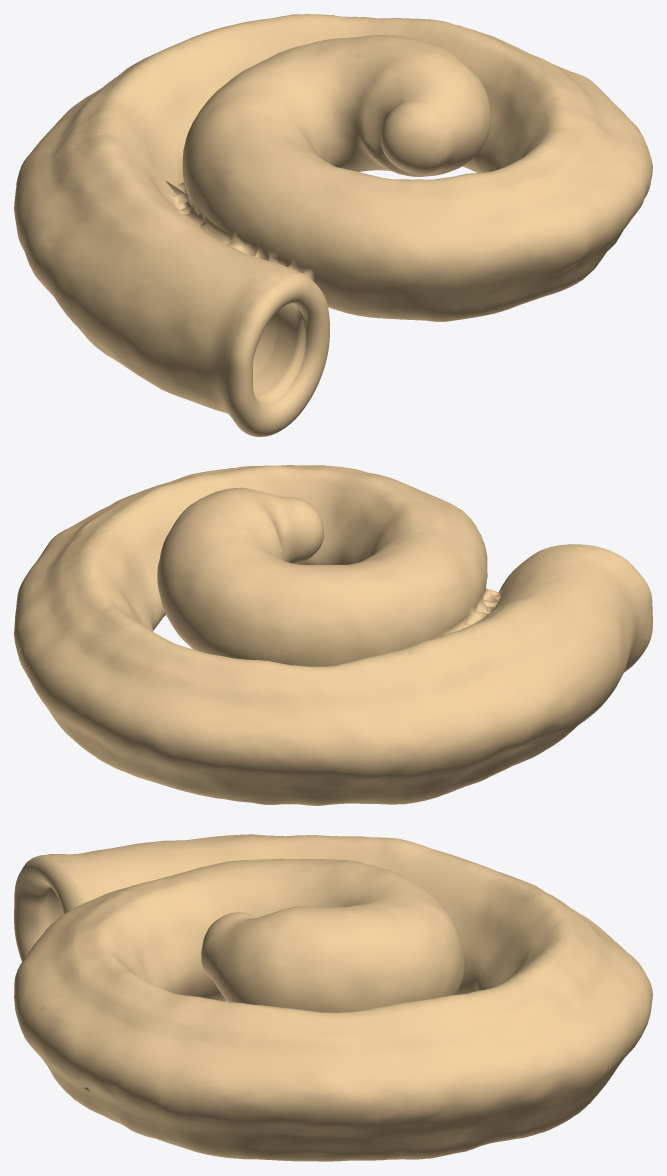
File: bottlenose_dolphin_cochlea.glb
The picture shows the model from 3 angles, top to bottom: view 1: azimuth 30°, elevation 25°; view 2: azimuth 150°, elevation 25°; view 3: azimuth 270°, elevation 25°; orthographic projection. The views are drawn at different scales.
Visible parts, largest first — view 1: Tursiops_truncatus_Cochlea_Hollow; view 2: Tursiops_truncatus_Cochlea_Hollow; view 3: Tursiops_truncatus_Cochlea_Hollow.
Part boxes in pixels (<box>): Tursiops_truncatus_Cochlea_Hollow: <box>14,14,652,436</box>; Tursiops_truncatus_Cochlea_Hollow: <box>14,465,652,805</box>; Tursiops_truncatus_Cochlea_Hollow: <box>14,834,652,1161</box>.
Size of the model in its own units: 11.11 by 4.39 by 10.86.
